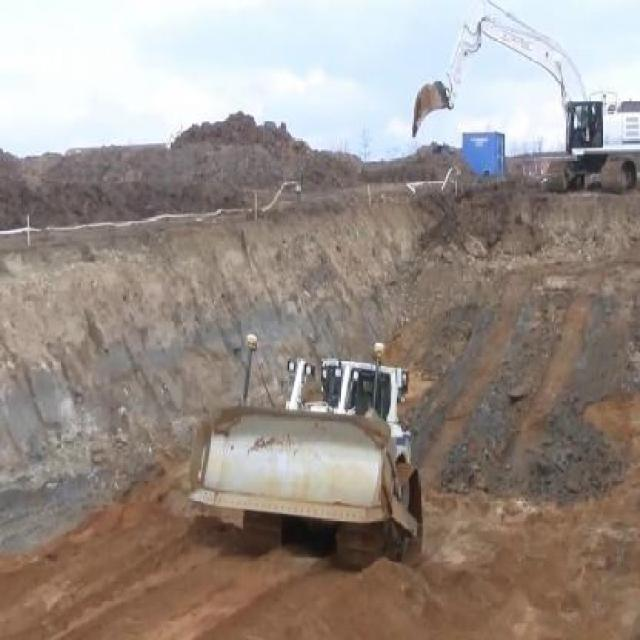Excavator: (407, 0, 640, 191)
